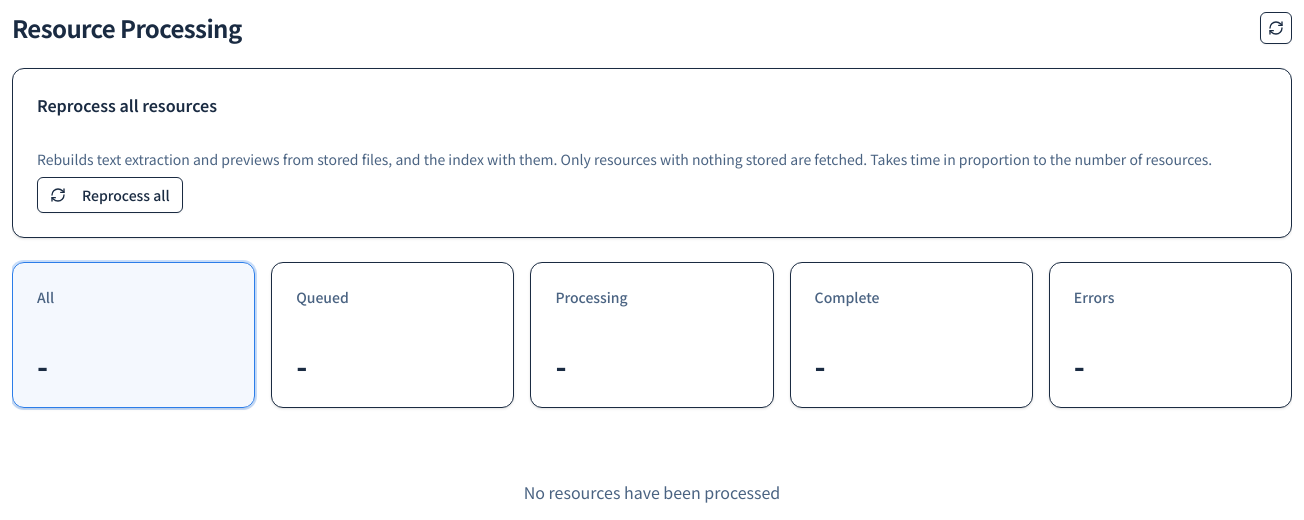
Test: AdminJobsPage › shows one on its way, not a failure, when the press is refused
The image size is (1304, 520).
Click the button "Reprocess all".
click(110, 195)  # box [37, 177, 183, 213]
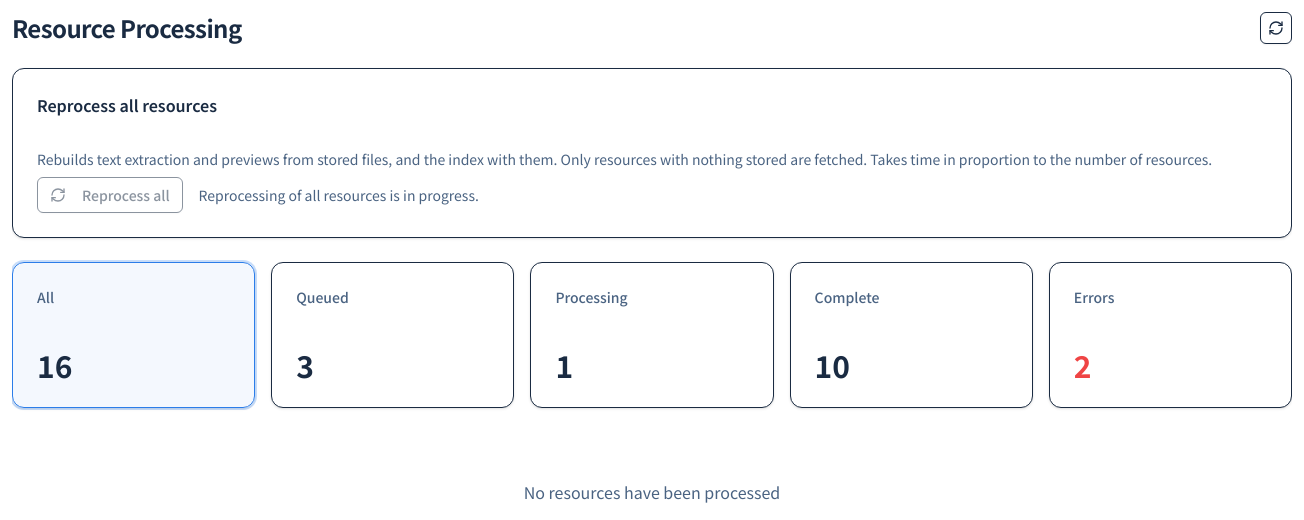
Now the text "Reprocessing of all resources is in progress." is shown, box [199, 185, 479, 205]
Now the button "Reprocess all" is disabled, box [37, 177, 183, 213]
